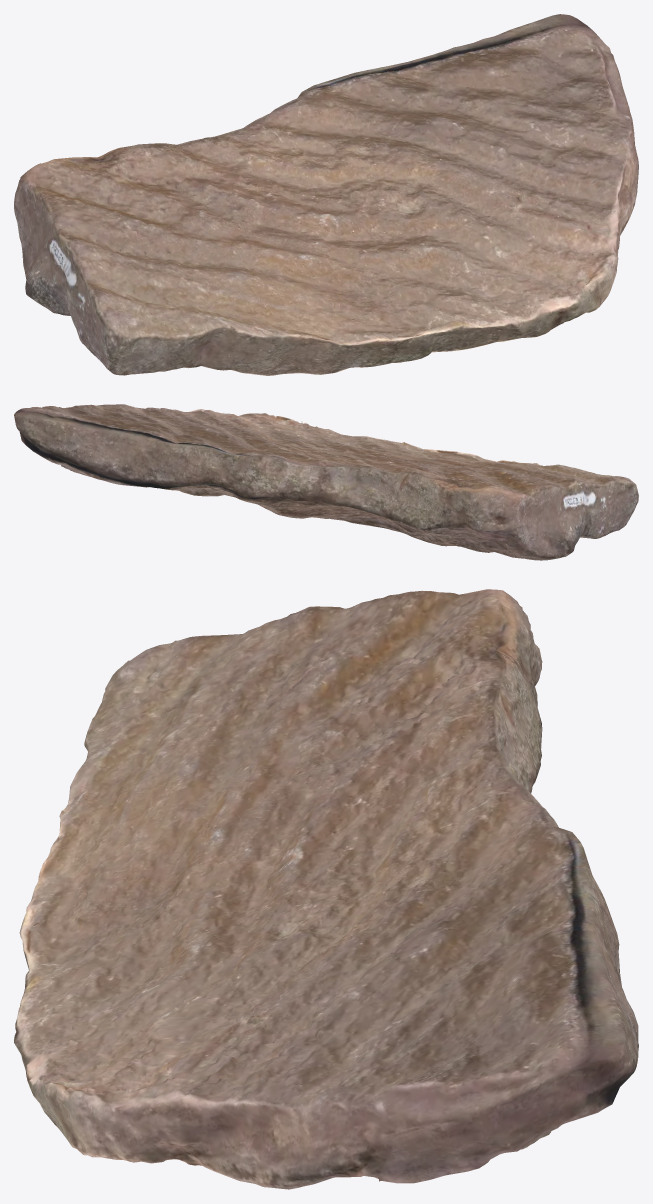
The model's file is sedimentary_structure_ripples.glb.
3 views of the same model, one above another, from view 1: azimuth 30°, elevation 25°; view 2: azimuth 150°, elevation 25°; view 3: azimuth 270°, elevation 25° (orthographic). The views are drawn at different scales.
Visible parts, largest first — view 1: Object_2; view 2: Object_2; view 3: Object_2.
Part boxes in pixels (x1,y1,x2,y2): Object_2: [14, 14, 638, 375]; Object_2: [14, 404, 638, 560]; Object_2: [14, 589, 638, 1189].
Size of the model in its own units: 2.01 by 0.4824 by 1.1.
1 material, 1 textured.
